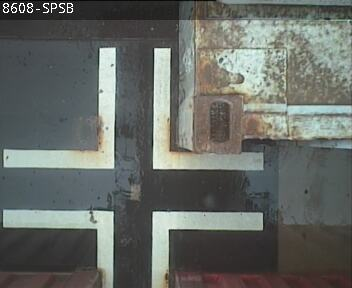groundmarker_1: (3, 48, 262, 170), (4, 208, 262, 288)
